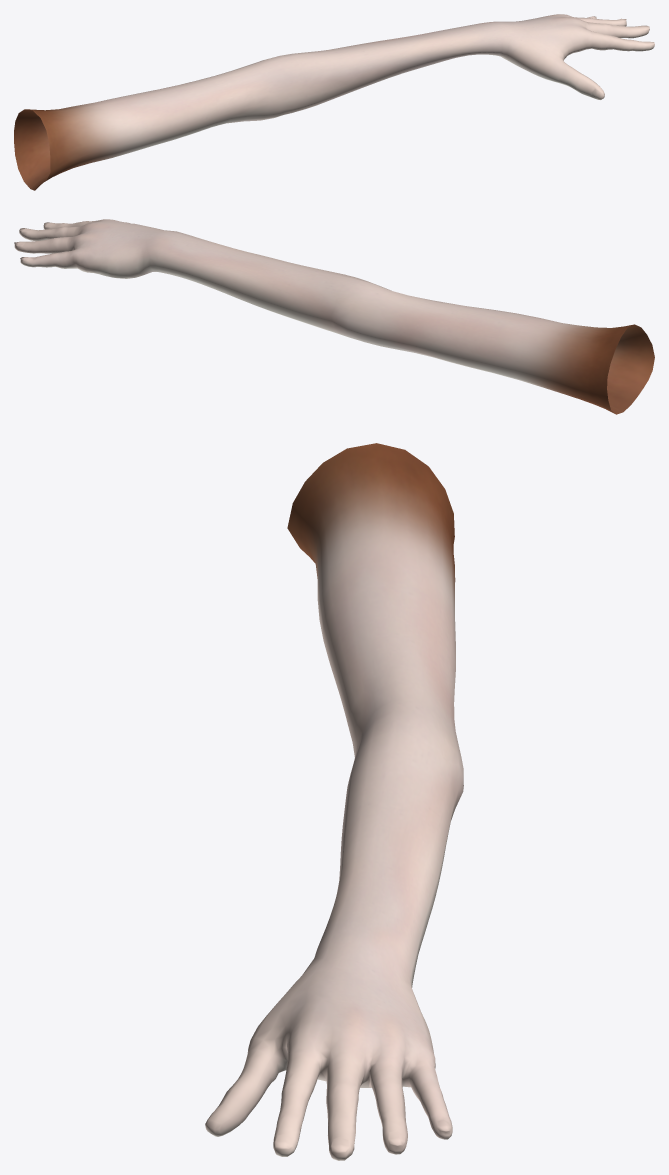
The model's file is Lhand.fbx.
3 views of the same model, one above another, from view 1: azimuth 30°, elevation 25°; view 2: azimuth 150°, elevation 25°; view 3: azimuth 270°, elevation 25° (orthographic). The views are drawn at different scales.
Parts seen in each view (by area): view 1: Lhand; view 2: Lhand; view 3: Lhand.
Part boxes in pixels (x1,y1,x2,y2): Lhand: (14, 14, 654, 190); Lhand: (14, 219, 654, 414); Lhand: (205, 443, 463, 1160).
Bounding box in the file's own units: 60.82 × 8.46 × 11.11.
1 material, 1 textured.
